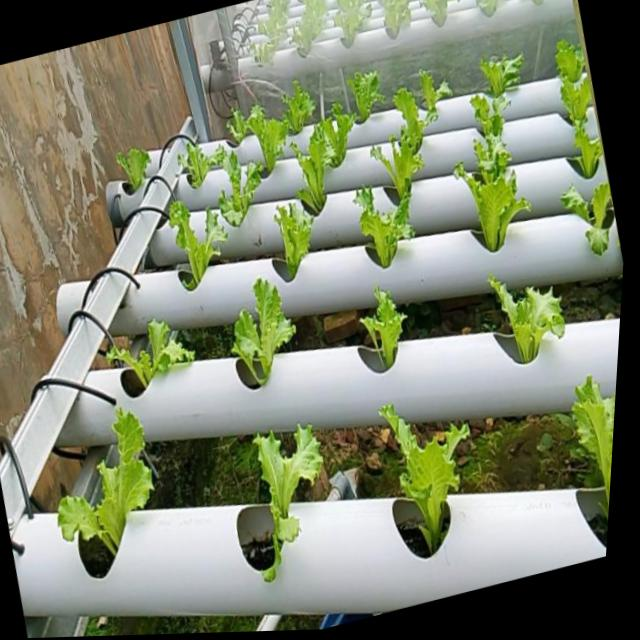Baby: (48, 406, 146, 554), (375, 402, 464, 553), (247, 425, 317, 581), (567, 376, 614, 546), (226, 274, 290, 382), (484, 275, 559, 363), (94, 313, 187, 382), (366, 107, 432, 204), (285, 118, 341, 216), (162, 197, 222, 287), (339, 64, 399, 150), (459, 172, 521, 252), (222, 102, 283, 172), (209, 147, 258, 226), (556, 183, 609, 256), (356, 284, 401, 366), (352, 187, 397, 267), (469, 110, 511, 195), (268, 201, 309, 279), (552, 49, 588, 127), (171, 136, 219, 187), (407, 71, 450, 126), (276, 80, 311, 135), (476, 56, 519, 99), (109, 143, 145, 184)
